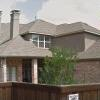Chimney: (6, 7, 32, 48)
